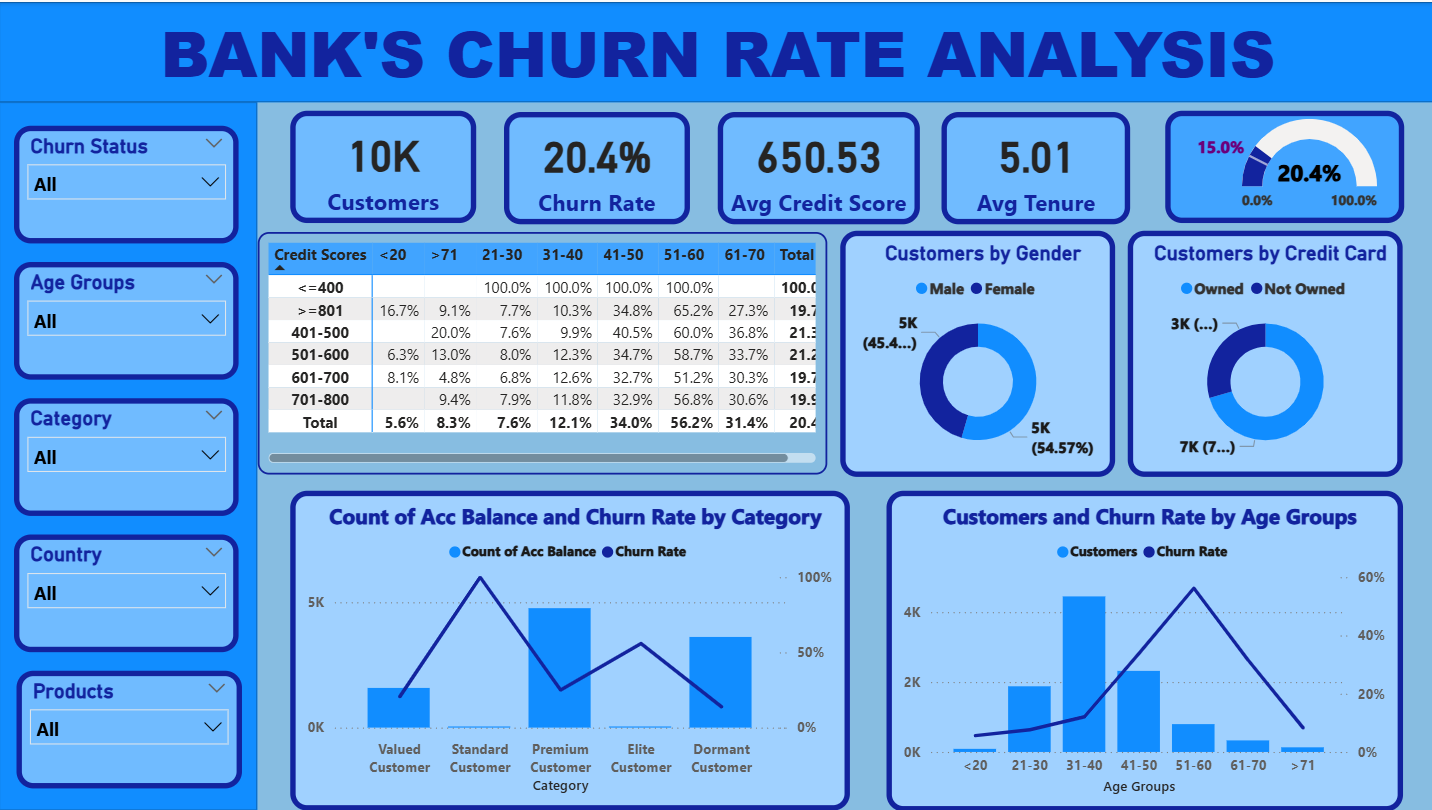

The dashboard page shown, as its layout file describes it:
{"tool":"powerbi","page":{"name":"Page 1","canvas":[1280,720],"ordinal":0},"visuals":[{"type":"card","fields":{"Values":["Customer Data.No.of Customers"]},"box":[259.4,96.5,165.3,100.1],"z":0},{"type":"card","fields":{"Values":["Customer Data.Churn Rate"]},"box":[450,97.7,165.3,100.1],"z":1000},{"type":"donutChart","fields":{"Category":["Customer Data.Gender"],"Y":["Customer Data.No.of Customers"]},"box":[749.2,203.9,244.9,219.6],"z":2000},{"type":"donutChart","fields":{"Y":["Customer Data.No.of Customers"],"Category":["Customer Data.Credit Card"]},"box":[1005,203.9,244.9,219.6],"z":3000},{"type":"lineClusteredColumnComboChart","fields":{"Category":["Age Groups.Age Groups"],"Y":["Customer Data.Customers"],"Y2":["Customer Data.Churn Rate"]},"box":[790.4,435,459.7,285.4],"z":4000},{"type":"gauge","fields":{"Y":["Customer Data.Churn Rate"],"MinValue":["Min(Customer Data.Min Churn Rate)"],"MaxValue":["Max(Customer Data.Max Churn Rate)"],"TargetValue":["Max(Customer Data.Target Churn Rate)"]},"box":[1038.7,96.5,213,100.1],"z":5000},{"type":"shape","box":[0,89,230,631],"z":6000},{"type":"slicer","fields":{"Values":["Customer Data.Churn Status"]},"box":[13.3,109.8,200.3,105],"z":7000,"group":"g1"},{"type":"shape","box":[0,0,1280.3,89.3],"z":7000},{"type":"textbox","box":[0,0,1280.3,89.3],"z":8000},{"type":"slicer","fields":{"Values":["Customer Data.Age Groups"]},"box":[13.3,231.1,200.3,105],"z":8000,"group":"g1"},{"type":"slicer","fields":{"Values":["Customer Data.Country"]},"box":[13.3,473.7,200.3,105],"z":9000,"group":"g1"},{"type":"lineClusteredColumnComboChart","fields":{"Category":["Acc Balance Groups.Category"],"Y2":["Customer Data.Churn Rate"],"Y":["CountNonNull(Customer Data.Acc Balance)"]},"box":[259.4,435.5,498.3,284.7],"z":9000},{"type":"card","fields":{"Values":["Customer Data.Avg Tenure"]},"box":[839.7,97.7,168,100.1],"z":10000},{"type":"slicer","fields":{"Values":["Customer Data.Products"]},"box":[15,595,200.5,105],"z":10000,"group":"g1"},{"type":"card","fields":{"Values":["Customer Data.Avg Credit Score"]},"box":[640.6,97.7,179.8,100.1],"z":11000},{"type":"pivotTable","fields":{"Columns":["Customer Data.Age Groups"],"Rows":["Customer Data.Credit Scores"],"Values":["Customer Data.Churn Rate"]},"box":[230.4,205.1,507,216],"z":12000},{"type":"group","id":"g1","title":"Group 1","box":[13.3,109.8,202.3,590.2],"z":13000},{"type":"slicer","fields":{"Values":["Acc Balance Groups.Category"]},"box":[13.3,352.4,200.3,105],"z":13000,"group":"g1"}]}

Visuals, with their boxes in screenshot pixels (x1, y1, x2, y2), scaled from the page's 1280x720 canvas onto the 1432x810 screenshot:
card - Customer Data.No.of Customers: [290, 109, 475, 221]
card - Customer Data.Churn Rate: [503, 110, 688, 223]
donutChart - Customer Data.Gender x Customer Data.No.of Customers: [838, 229, 1112, 476]
donutChart - Customer Data.No.of Customers x Customer Data.Credit Card: [1124, 229, 1398, 476]
lineClusteredColumnComboChart - Age Groups.Age Groups x Customer Data.Customers: [884, 489, 1399, 809]
gauge - Customer Data.Churn Rate x Min(Customer Data.Min Churn Rate): [1162, 109, 1400, 221]
shape: [0, 100, 257, 809]
slicer - Customer Data.Churn Status: [15, 124, 239, 242]
shape: [0, 0, 1431, 100]
textbox: [0, 0, 1431, 100]
slicer - Customer Data.Age Groups: [15, 260, 239, 378]
slicer - Customer Data.Country: [15, 533, 239, 651]
lineClusteredColumnComboChart - Acc Balance Groups.Category x Customer Data.Churn Rate: [290, 490, 848, 809]
card - Customer Data.Avg Tenure: [939, 110, 1127, 223]
slicer - Customer Data.Products: [17, 669, 241, 788]
card - Customer Data.Avg Credit Score: [717, 110, 918, 223]
pivotTable - Customer Data.Age Groups x Customer Data.Credit Scores: [258, 231, 825, 474]
"Group 1" group: [15, 124, 241, 788]
slicer - Acc Balance Groups.Category: [15, 396, 239, 515]
